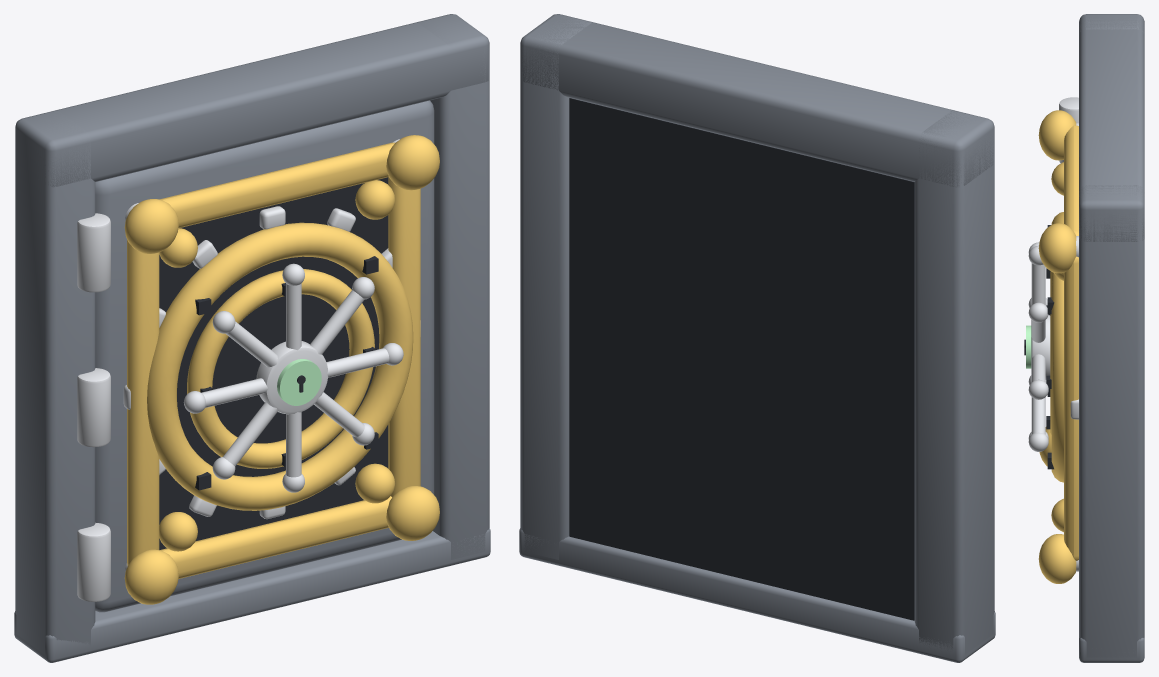
File: SM_VaultDoor.fbx
3 views of the same model, side by side, from view 1: azimuth 30°, elevation 25°; view 2: azimuth 150°, elevation 25°; view 3: azimuth 270°, elevation 25° (orthographic). The views are drawn at different scales.
Parts seen in each view (by area): view 1: SM_VaultDoor, Door, Ring_Outer, Wheel, Ring_Inner, Bolt_0, Bolt_3, Bolt_1, Bolt_2, Keyhole; view 2: SM_VaultDoor; view 3: SM_VaultDoor, Door, Wheel, Ring_Outer, Bolt_1, Bolt_2, Bolt_0, Ring_Inner, Keyhole, Bolt_3.
Part boxes in pixels (x1,y1,x2,y2): SM_VaultDoor: [14, 14, 490, 662]; Door: [95, 100, 434, 612]; Ring_Outer: [147, 222, 413, 510]; Wheel: [183, 263, 403, 492]; Ring_Inner: [187, 269, 375, 468]; Bolt_0: [124, 199, 178, 253]; Bolt_3: [124, 549, 178, 604]; Bolt_1: [386, 135, 439, 190]; Bolt_2: [386, 486, 439, 540]; Keyhole: [277, 359, 321, 405]; SM_VaultDoor: [519, 14, 995, 662]; SM_VaultDoor: [1059, 14, 1144, 662]; Door: [1051, 125, 1078, 560]; Wheel: [1028, 242, 1050, 451]; Ring_Outer: [1047, 212, 1063, 482]; Bolt_1: [1038, 223, 1078, 273]; Bolt_2: [1038, 534, 1078, 583]; Bolt_0: [1038, 110, 1078, 160]; Ring_Inner: [1046, 268, 1051, 434]; Keyhole: [1024, 325, 1031, 368]; Bolt_3: [1039, 427, 1051, 466].
Size of the model in its own units: 1.8 by 2.02 by 0.477.
